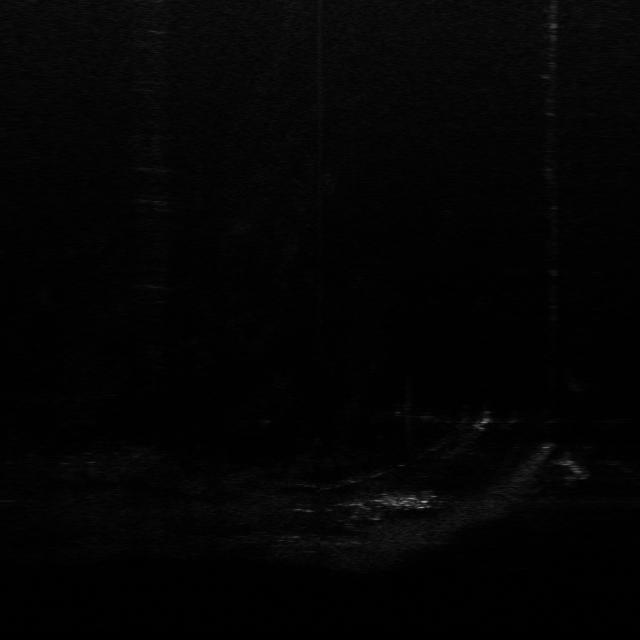rov: (404, 492, 434, 512)
